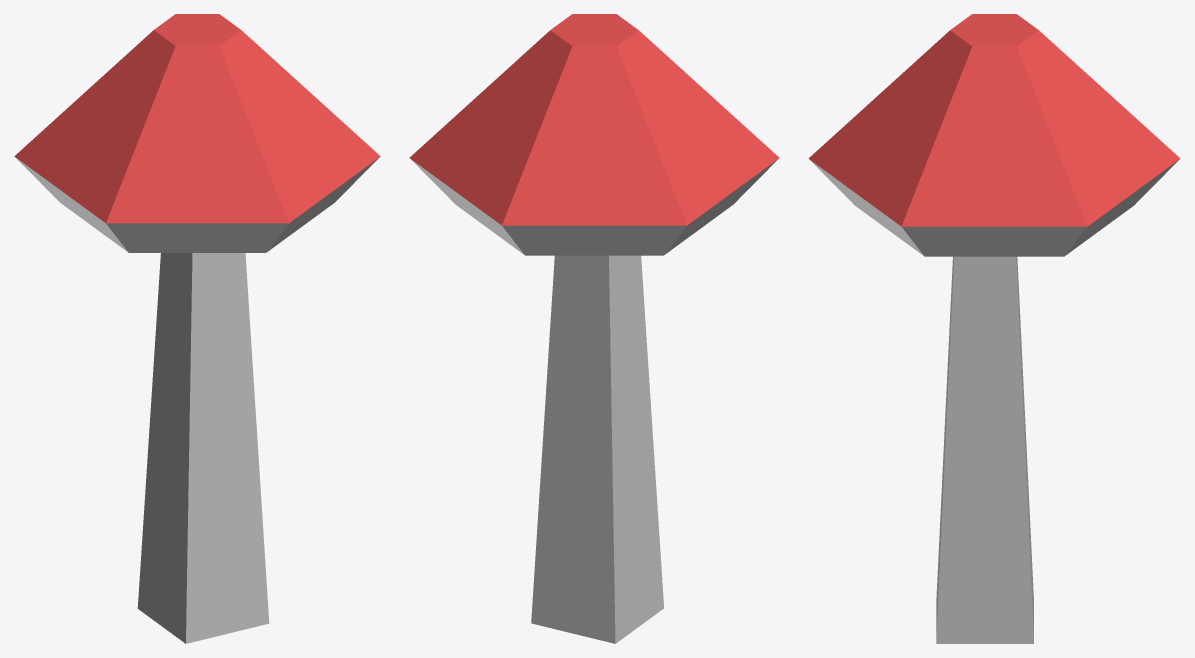
The model's file is mushroom-red-tall.glb.
3 renders of one model, left to right at view 1: azimuth 30°, elevation 25°; view 2: azimuth 150°, elevation 25°; view 3: azimuth 270°, elevation 25°, orthographic.
Visible parts, largest first — view 1: mushroom_redTall; view 2: mushroom_redTall; view 3: mushroom_redTall.
Part boxes in pixels (x1,y1,x2,y2): mushroom_redTall: (14,14,380,643); mushroom_redTall: (409,14,779,643); mushroom_redTall: (808,14,1180,643).
Size of the model in its own units: 0.3705 by 0.7515 by 0.4279.
